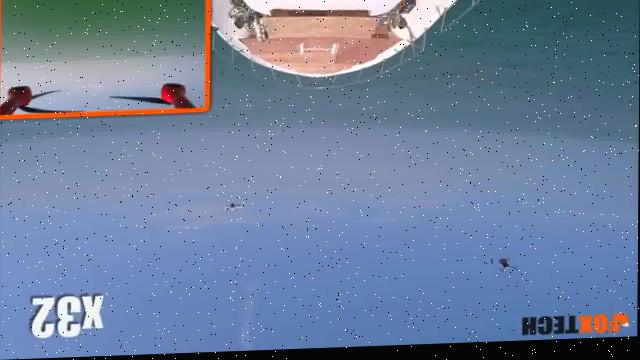drone: (482, 251, 531, 283), (223, 200, 251, 224)
